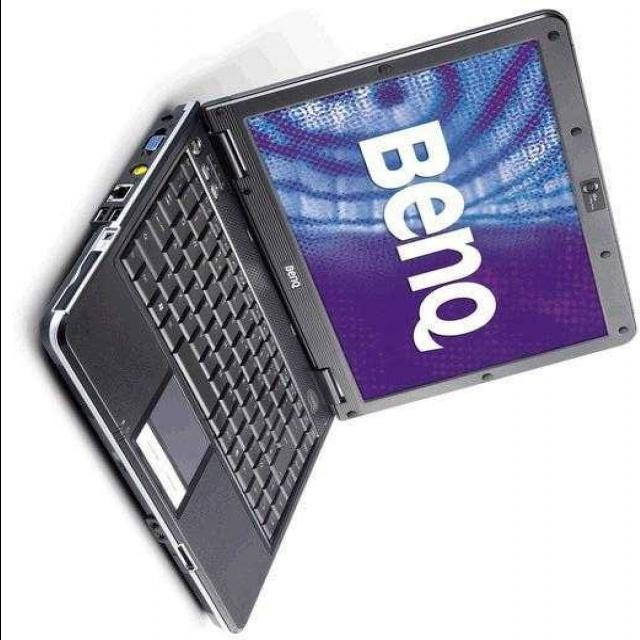laptop: (33, 2, 638, 640)
